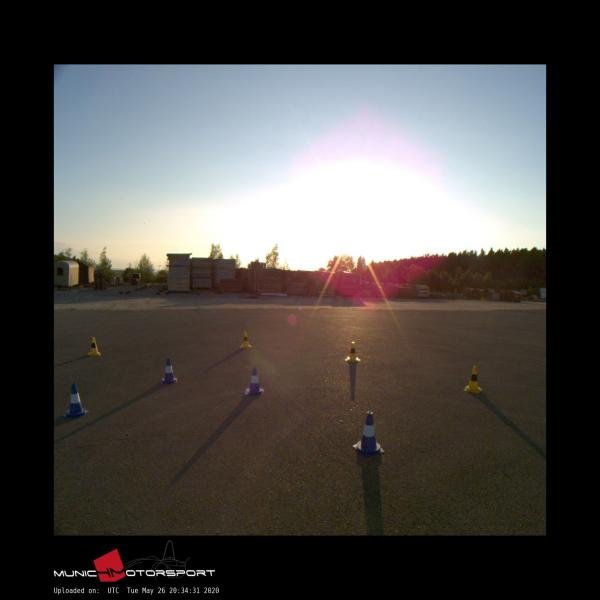blue_cone: (352, 411, 385, 455), (63, 383, 89, 416), (246, 367, 264, 394), (161, 358, 177, 383)
yellow_cone: (463, 366, 482, 392), (345, 342, 360, 361), (87, 337, 101, 355), (240, 331, 252, 348)
